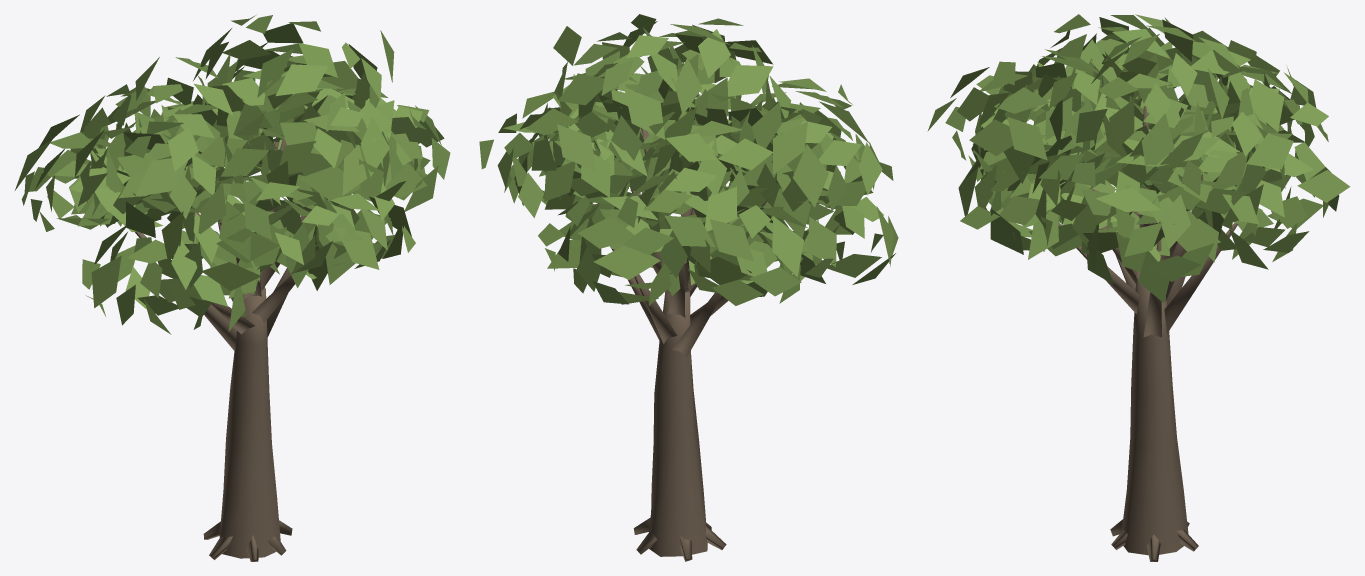
Rendered from oak-broad-lod1.glb.
3 renders of one model, left to right at view 1: azimuth 30°, elevation 25°; view 2: azimuth 150°, elevation 25°; view 3: azimuth 270°, elevation 25°, orthographic. The views are drawn at different scales.
Parts seen in each view (by area): view 1: tree_oak-broad_LOD1; view 2: tree_oak-broad_LOD1; view 3: tree_oak-broad_LOD1.
Boxes of the visible parts, bbox=[...] form: tree_oak-broad_LOD1: bbox=[15, 15, 450, 561]; tree_oak-broad_LOD1: bbox=[479, 14, 898, 561]; tree_oak-broad_LOD1: bbox=[927, 14, 1350, 561].
Bounding box in the file's own units: 9.35 × 12.21 × 8.83.
